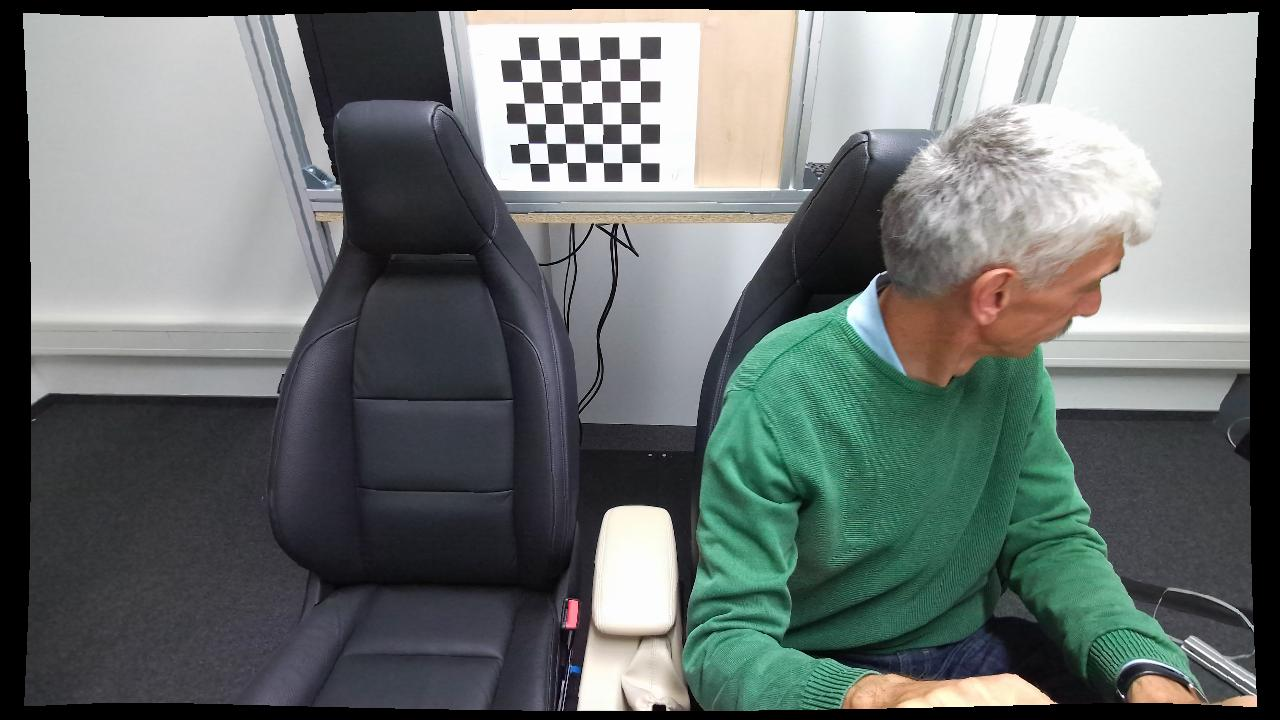Distracted: (678, 107, 1222, 712)
